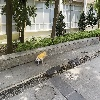fire: (37, 51, 47, 60)
